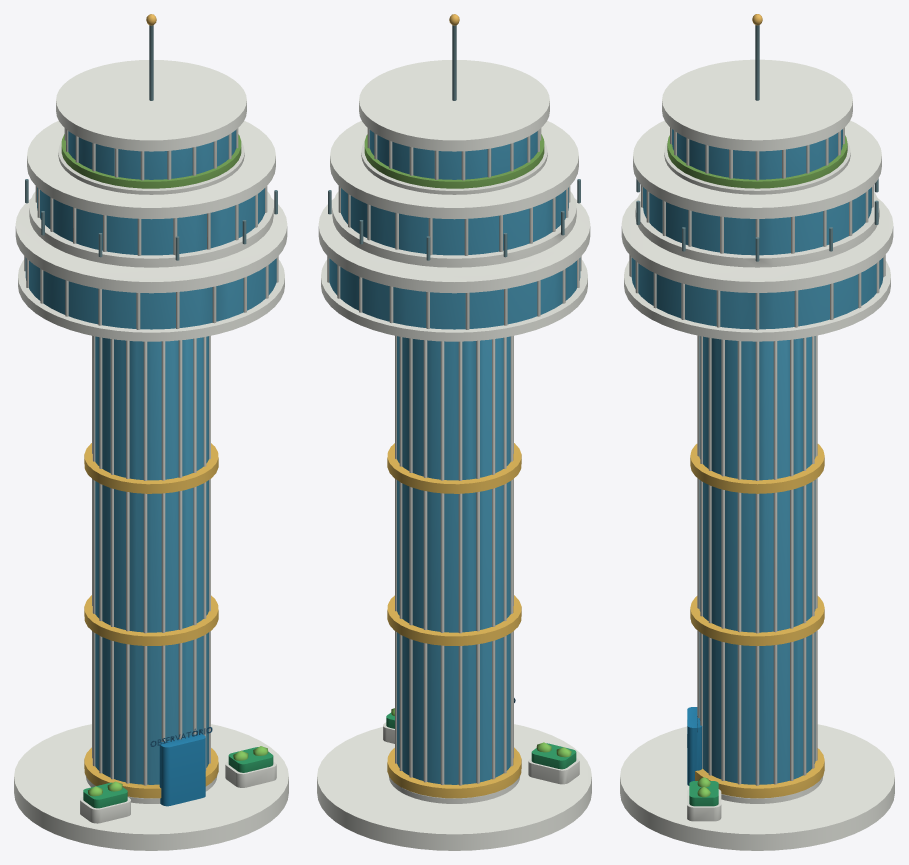
The model's file is eco-observatory-low.glb.
3 renders of one model, left to right at view 1: azimuth 30°, elevation 25°; view 2: azimuth 150°, elevation 25°; view 3: azimuth 270°, elevation 25°, orthographic.
Visible parts, largest first — view 1: landscaped podium, curved blue facade, tower collar, entrance, green viewing terrace, planter foliage, communications mast; view 2: landscaped podium, curved blue facade, tower collar, green viewing terrace, communications mast, planter foliage; view 3: landscaped podium, curved blue facade, tower collar, green viewing terrace, communications mast, entrance, planter foliage.
Boxes of the visible parts, x1=… form: landscaped podium: x1=14, y1=60, x2=288, y2=850; curved blue facade: x1=25, y1=130, x2=276, y2=784; tower collar: x1=84, y1=443, x2=218, y2=798; entrance: x1=159, y1=733, x2=205, y2=806; green viewing terrace: x1=61, y1=134, x2=241, y2=188; planter foliage: x1=83, y1=747, x2=273, y2=808; communications mast: x1=25, y1=25, x2=277, y2=260; landscaped podium: x1=317, y1=60, x2=591, y2=850; curved blue facade: x1=329, y1=130, x2=580, y2=784; tower collar: x1=387, y1=443, x2=521, y2=798; green viewing terrace: x1=364, y1=134, x2=544, y2=188; communications mast: x1=328, y1=25, x2=580, y2=260; planter foliage: x1=386, y1=712, x2=576, y2=769; landscaped podium: x1=620, y1=59, x2=894, y2=850; curved blue facade: x1=631, y1=129, x2=883, y2=784; tower collar: x1=690, y1=444, x2=824, y2=798; green viewing terrace: x1=667, y1=135, x2=847, y2=188; communications mast: x1=636, y1=25, x2=878, y2=261; entrance: x1=687, y1=707, x2=702, y2=785; planter foliage: x1=689, y1=781, x2=718, y2=806.
Bounding box in the file's own units: 3.6 × 11.25 × 3.6.
